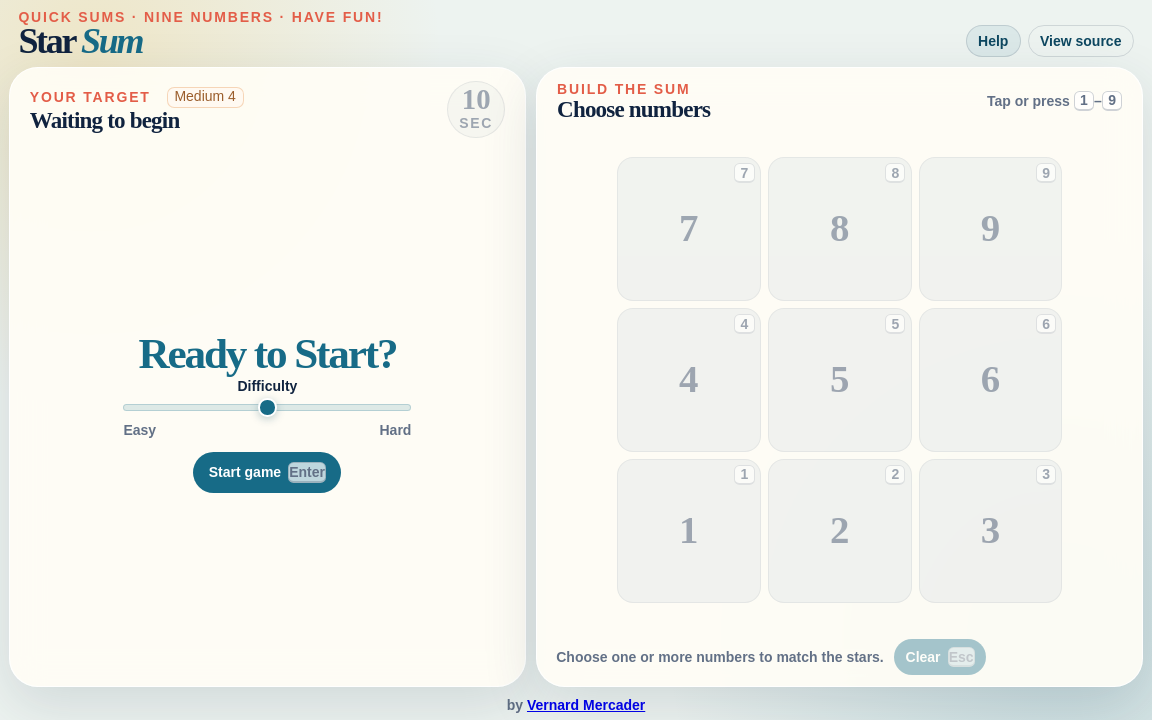
it: core gameplay › marks a selected number as wrong when its sum exceeds the target
This screenshot has width=1152, height=720.
Click the button "Start game Enter".
click(267, 472)  # box [193,452,341,493]
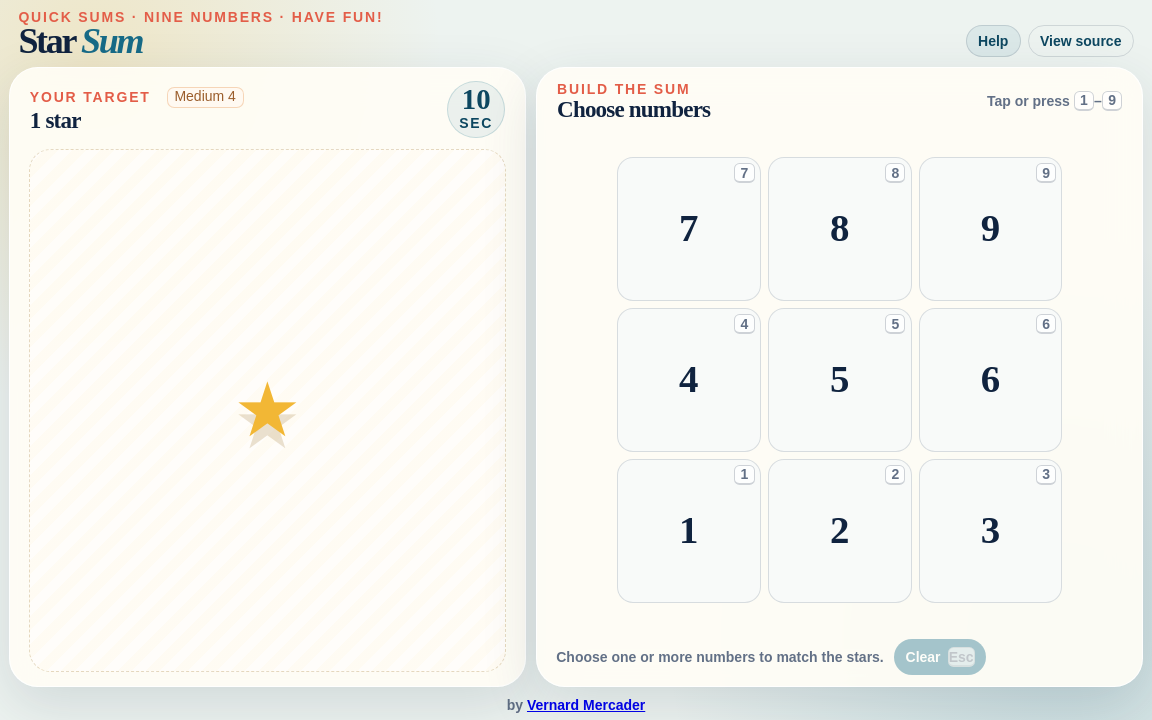
Click the button named "Number 2: available".
click(840, 531)  # box [768,459,912,603]
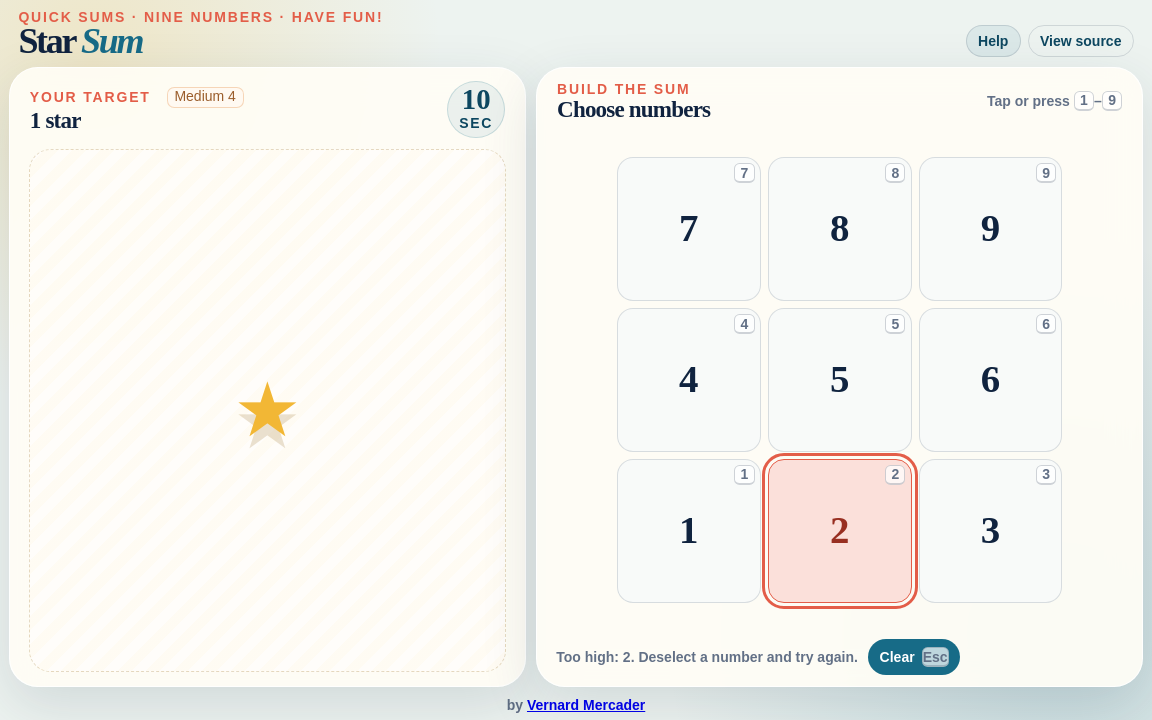
Expected: the message shows "Too high: 2", [556,649,858,665]
